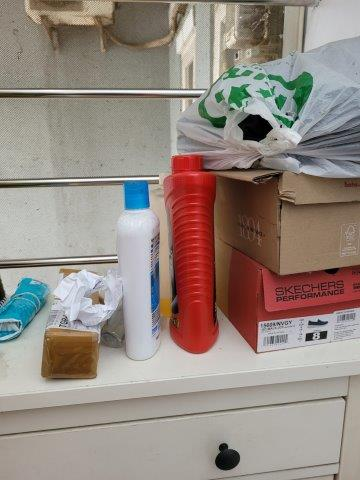kertas: (57, 268, 125, 332)
plastik: (174, 37, 360, 170)
